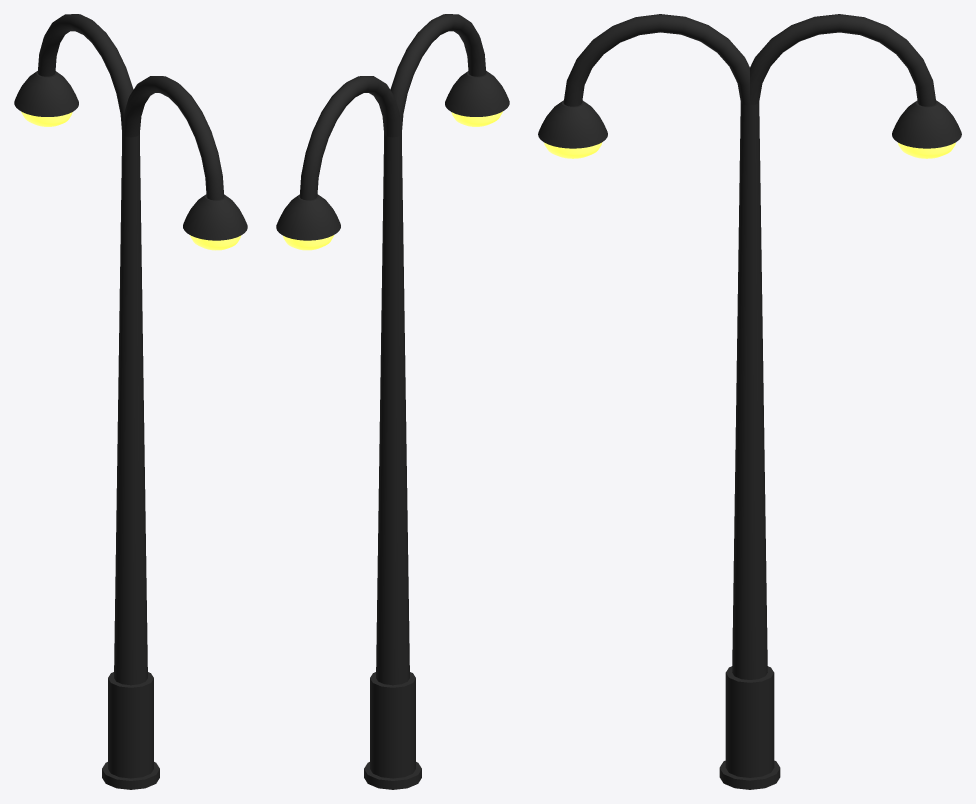
File: FarolaModernaRodonaDe1.009.fbx
The picture shows the model from 3 angles, left to right: view 1: azimuth 30°, elevation 25°; view 2: azimuth 150°, elevation 25°; view 3: azimuth 270°, elevation 25°; orthographic projection. The views are drawn at different scales.
Visible parts, largest first — view 1: FarolaModernaRodonaDe1.009; view 2: FarolaModernaRodonaDe1.009; view 3: FarolaModernaRodonaDe1.009.
Boxes of the visible parts, box(x1,y1,x2,y2) form: FarolaModernaRodonaDe1.009: box(14, 14, 247, 789); FarolaModernaRodonaDe1.009: box(276, 14, 509, 789); FarolaModernaRodonaDe1.009: box(538, 14, 961, 789).
Bounding box in the file's own units: 28.82 × 359 × 181.
